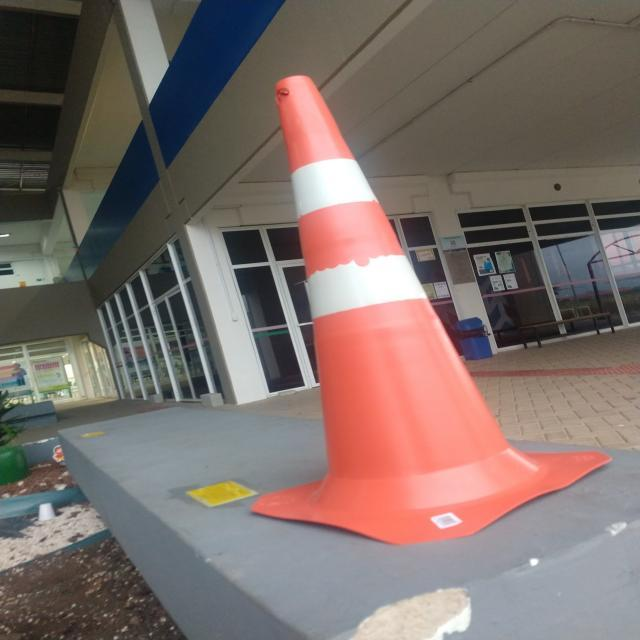Cone: (259, 56, 544, 515)
